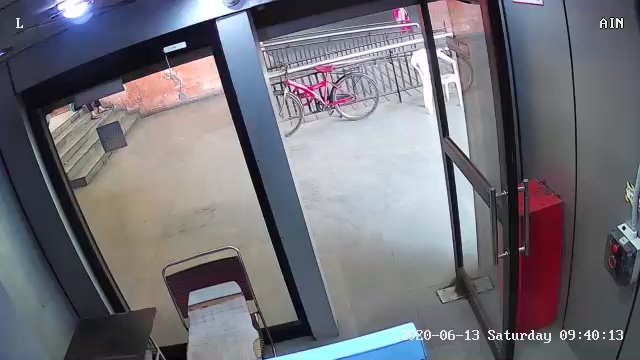open: (403, 1, 549, 360)
